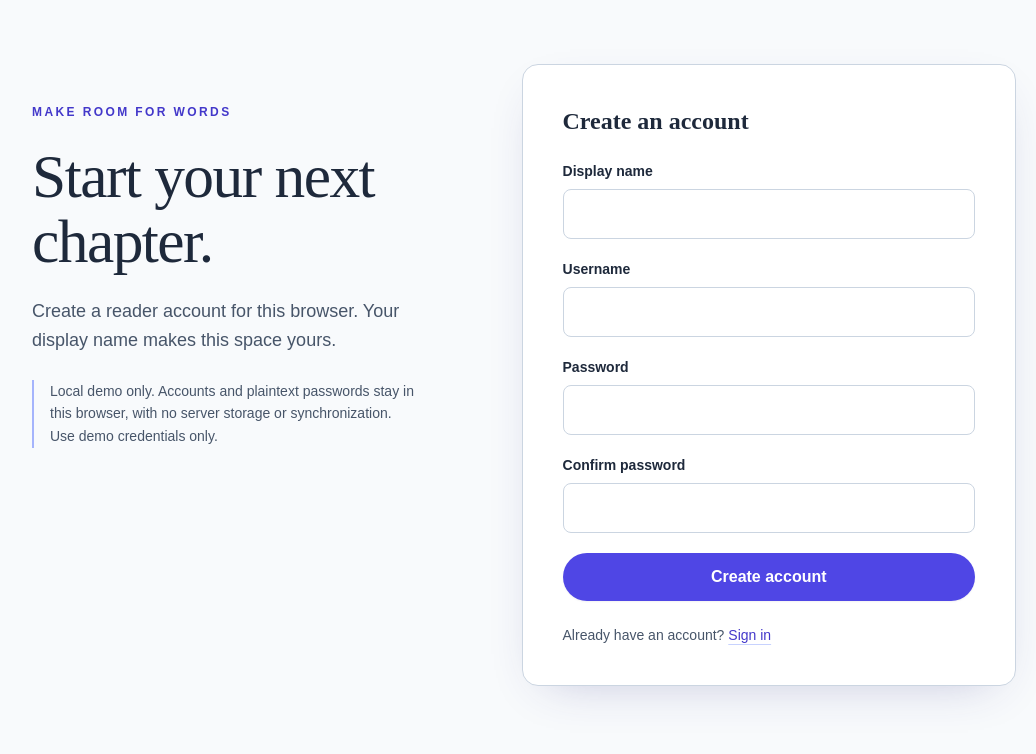
Test: shows mismatch on confirmation and retains other entered values
Step 1. Type "Avery" into the field labelled "Display name" → {"x": 769, "y": 214}, box [562,189,975,239]
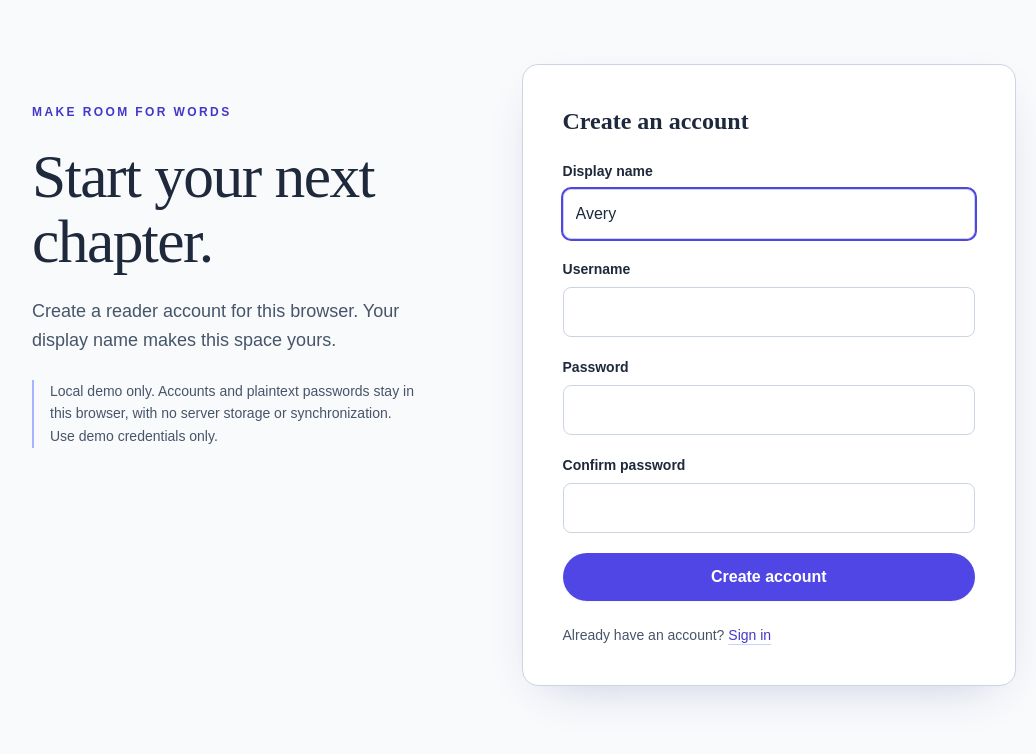
Step 2. Type "avery" into the field labelled "Username" → {"x": 769, "y": 312}, box [562,287,975,337]
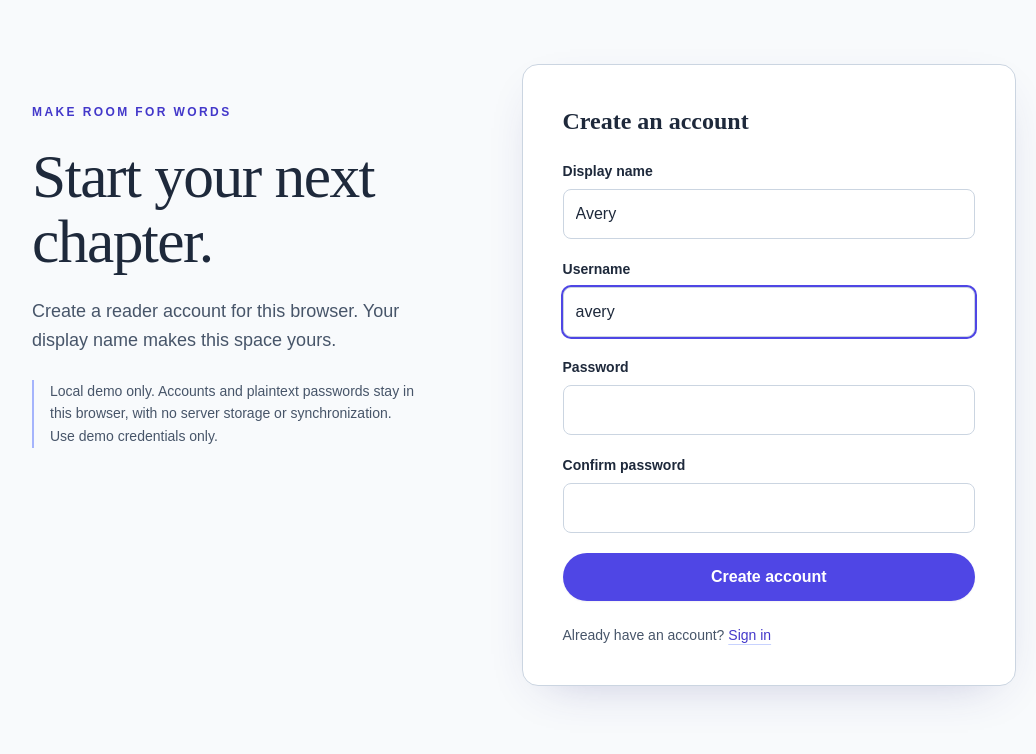
Step 3. Type "demo" into the password field labelled "Password" → {"x": 769, "y": 410}, box [562,385,975,435]
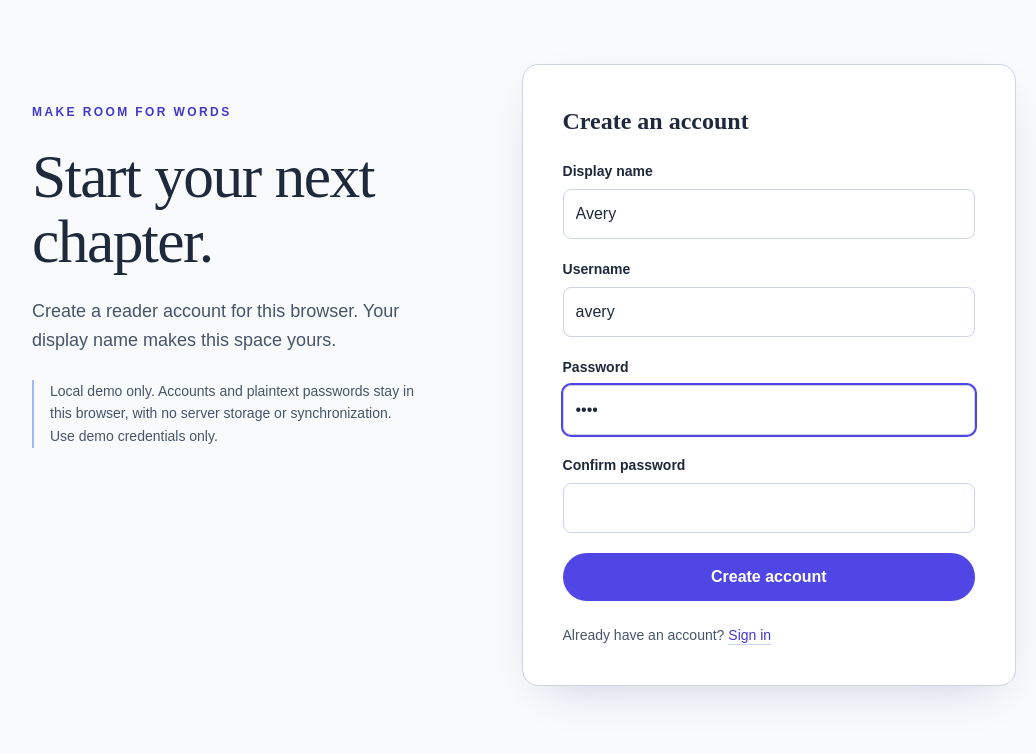
Step 4. Type "other" into the password field labelled "Confirm password" → {"x": 769, "y": 508}, box [562,483,975,533]
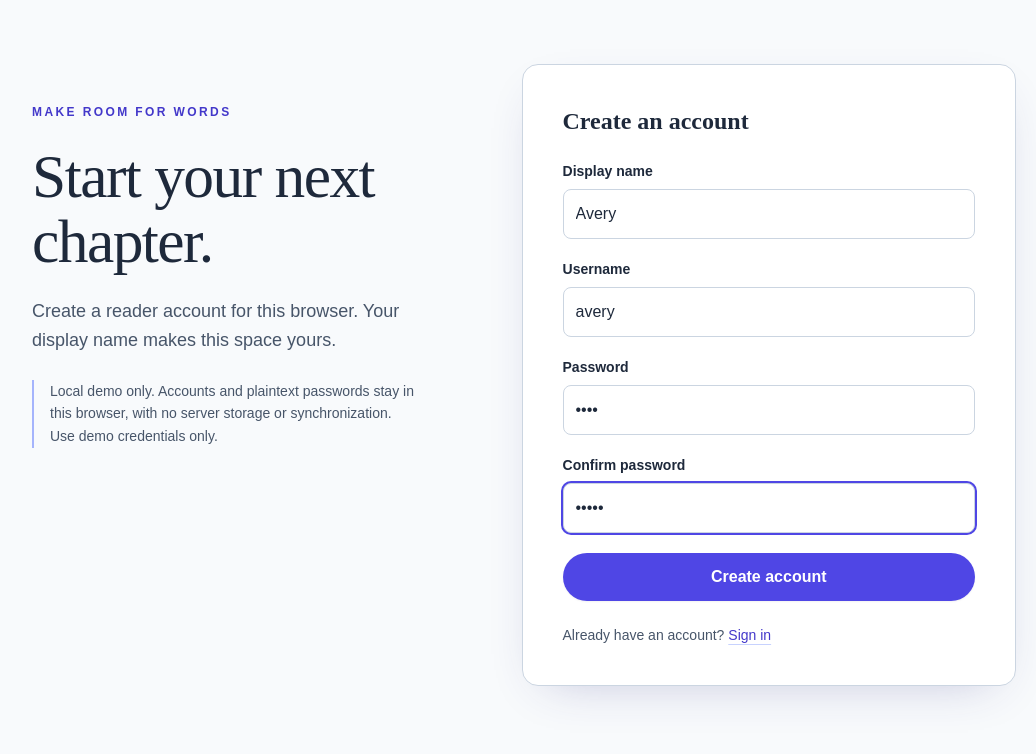
Step 5. Click the button "Create account" → {"x": 769, "y": 577}, box [562,553,975,601]
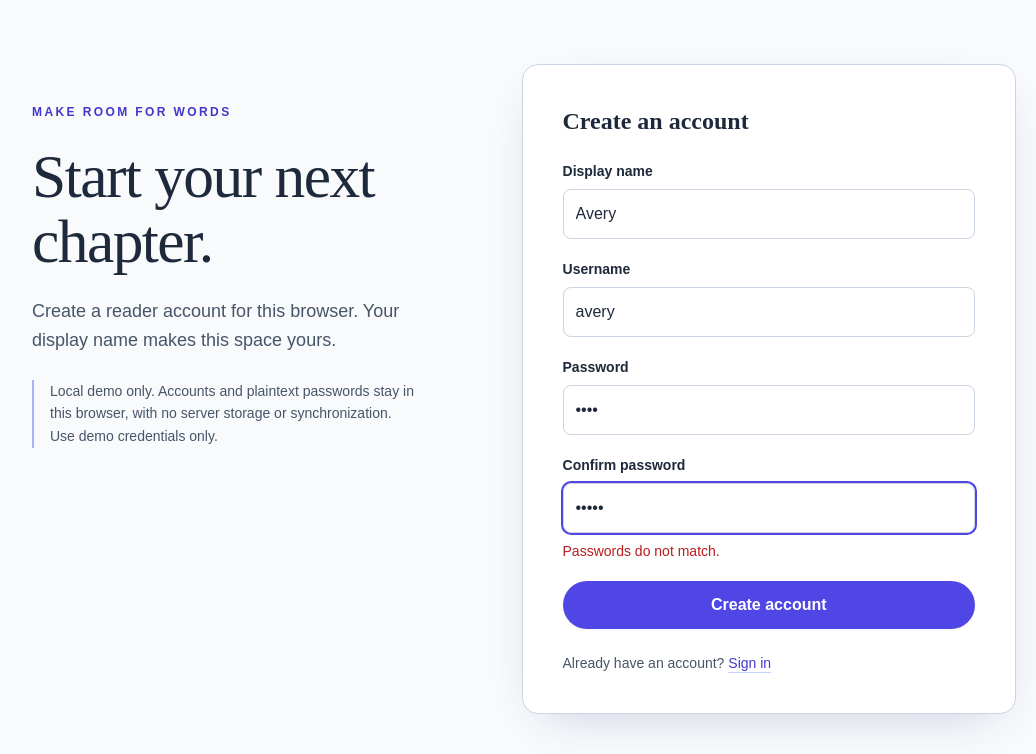
Result: the message reads "Passwords do not match." at [562,543,720,559]
